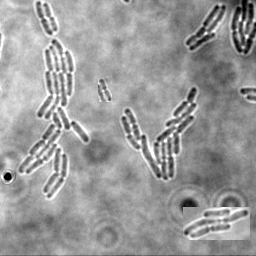Dividing: (34, 1, 52, 37), (41, 3, 57, 33), (98, 78, 112, 102)
Microcolony: (18, 40, 89, 199), (120, 87, 197, 181), (183, 207, 250, 240), (184, 5, 226, 52), (230, 1, 255, 56)
